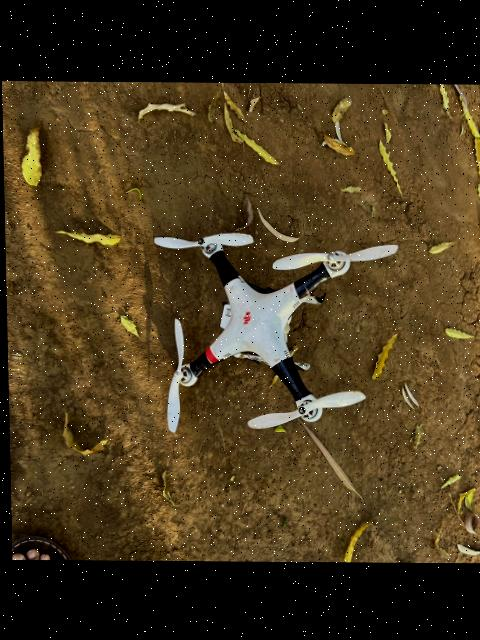drone: (134, 217, 388, 450)
